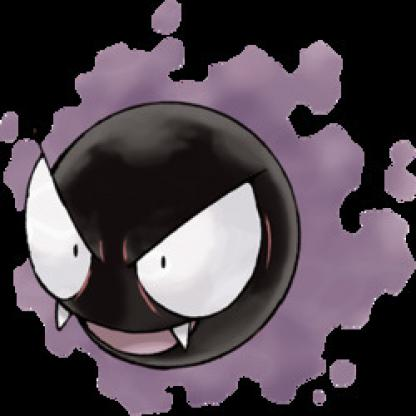Gastly: (1, 1, 416, 416)
